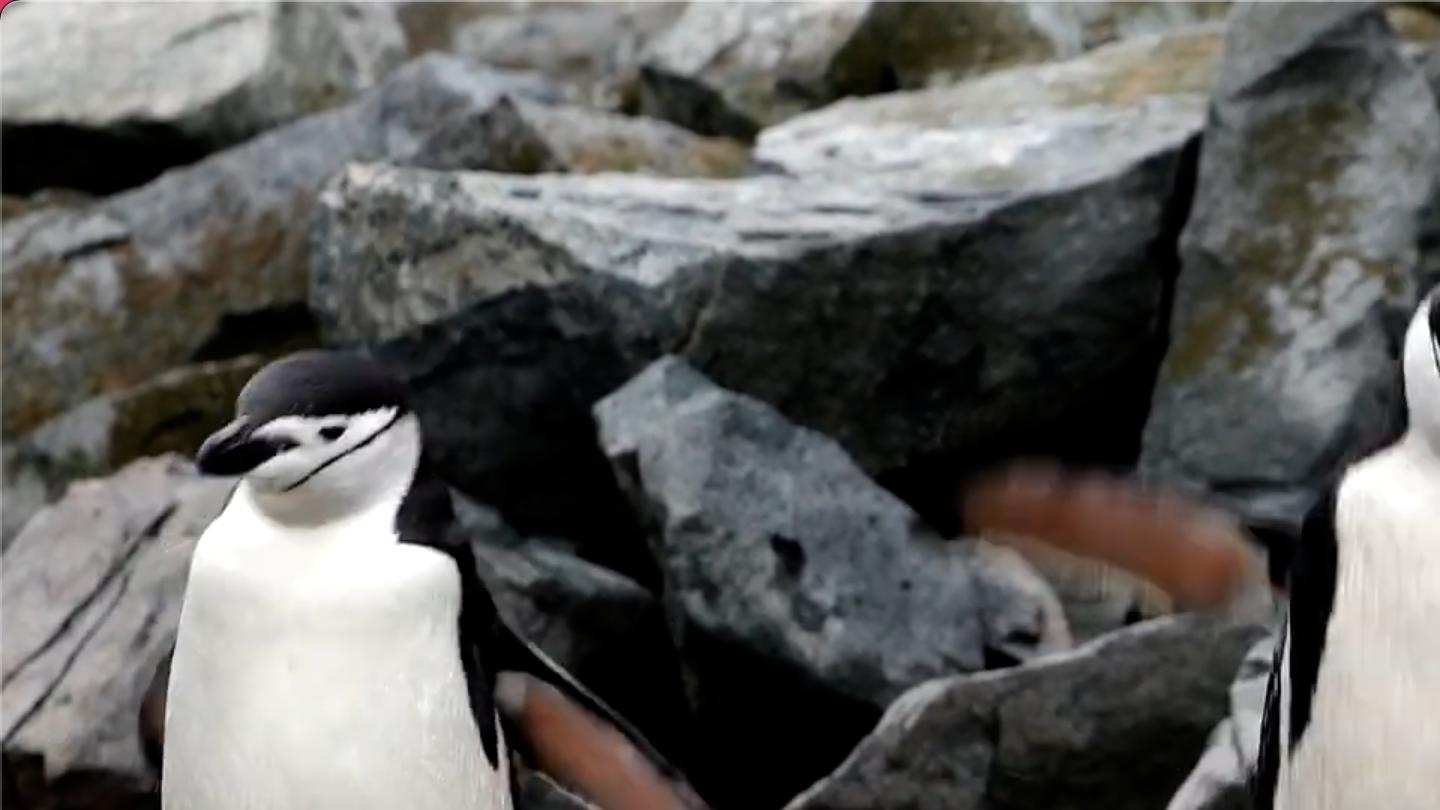Chinstrap Penguin: (133, 320, 736, 810), (1206, 210, 1440, 810)
